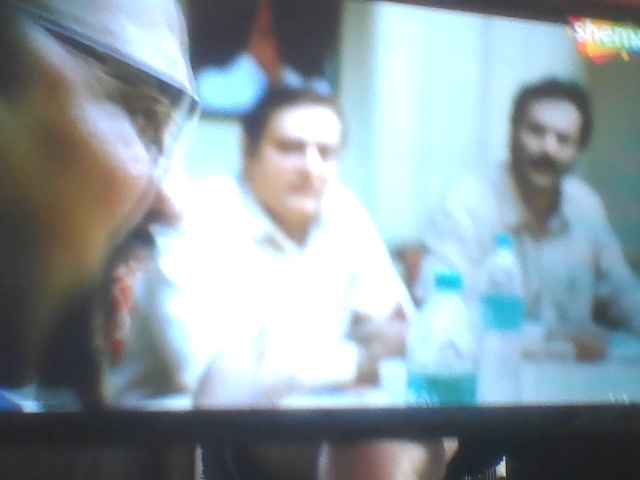fake: (238, 64, 352, 225)
